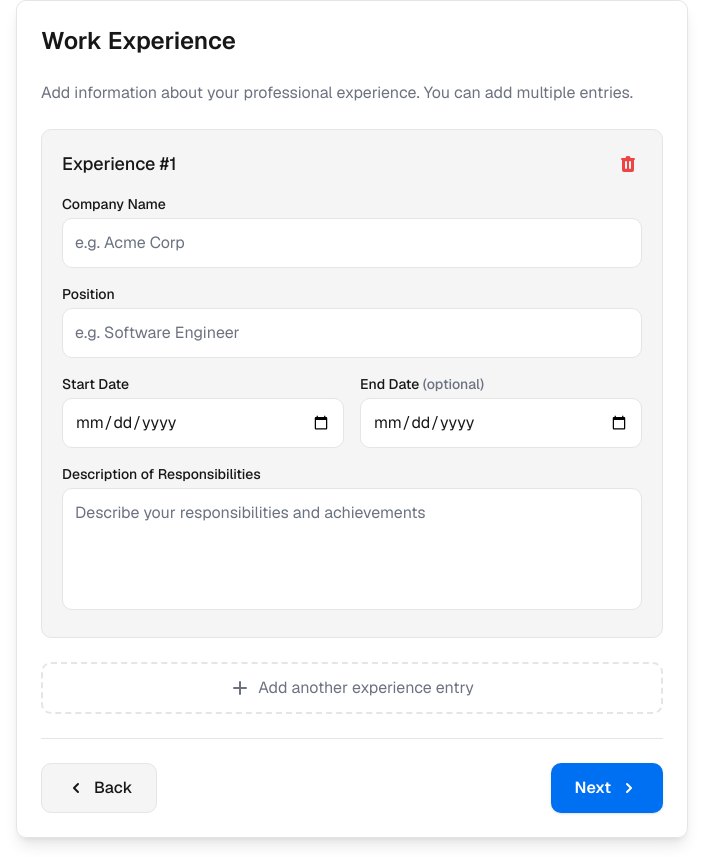
it: WorkExpForm Component › Walidacja i przesyłanie (Submit) › powinien zablokować datę początkową z przyszłości
Type "2050-01-01" into the date field labelled "Start Date" at (203,423), box [62,398,344,448]
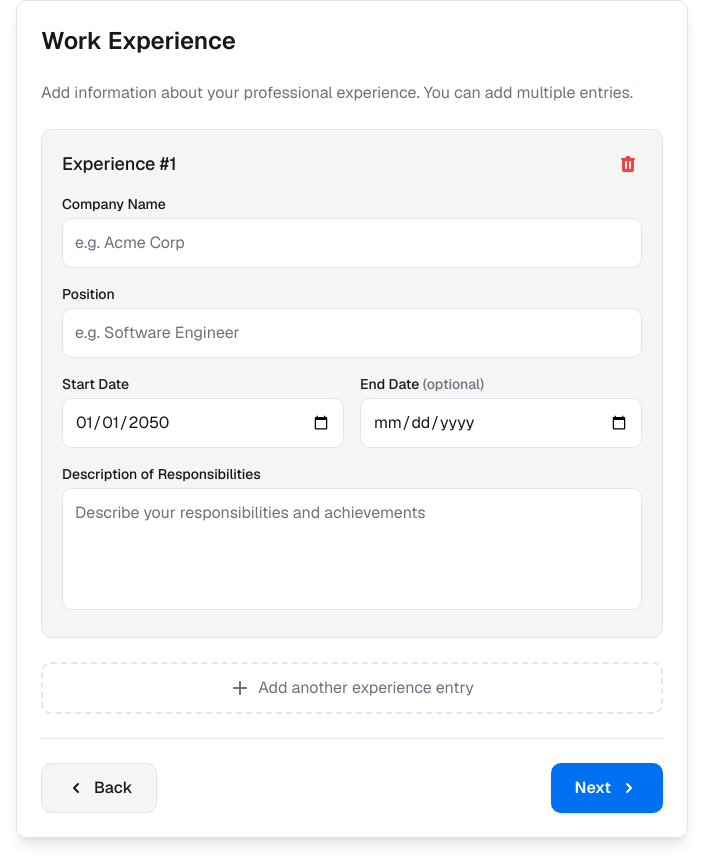
Click the button "Next" at (607,788), box [551,763,663,813]
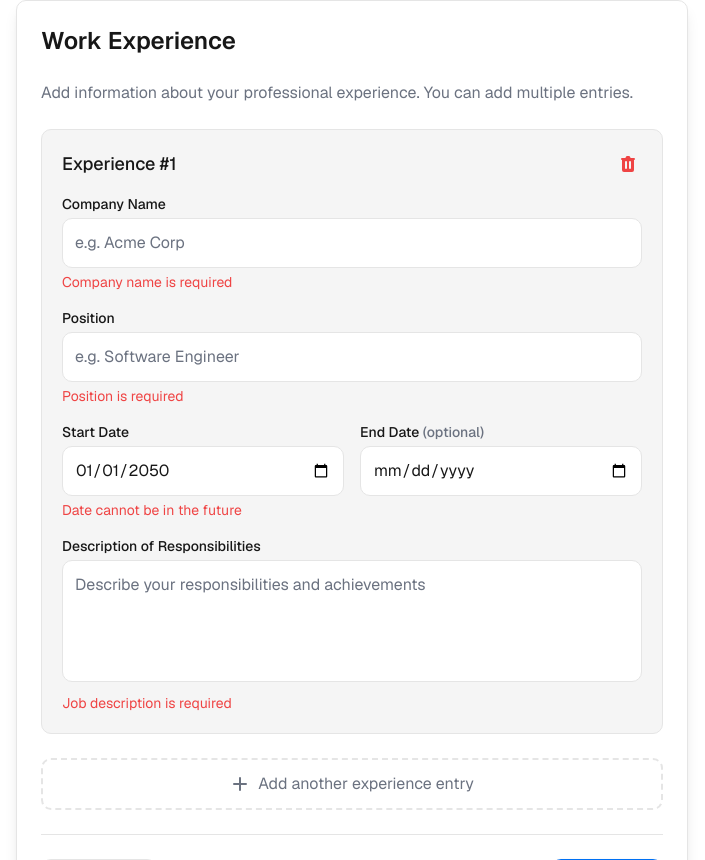
Expected: the text "Date cannot be in the future" is shown, [62,501,242,519]
